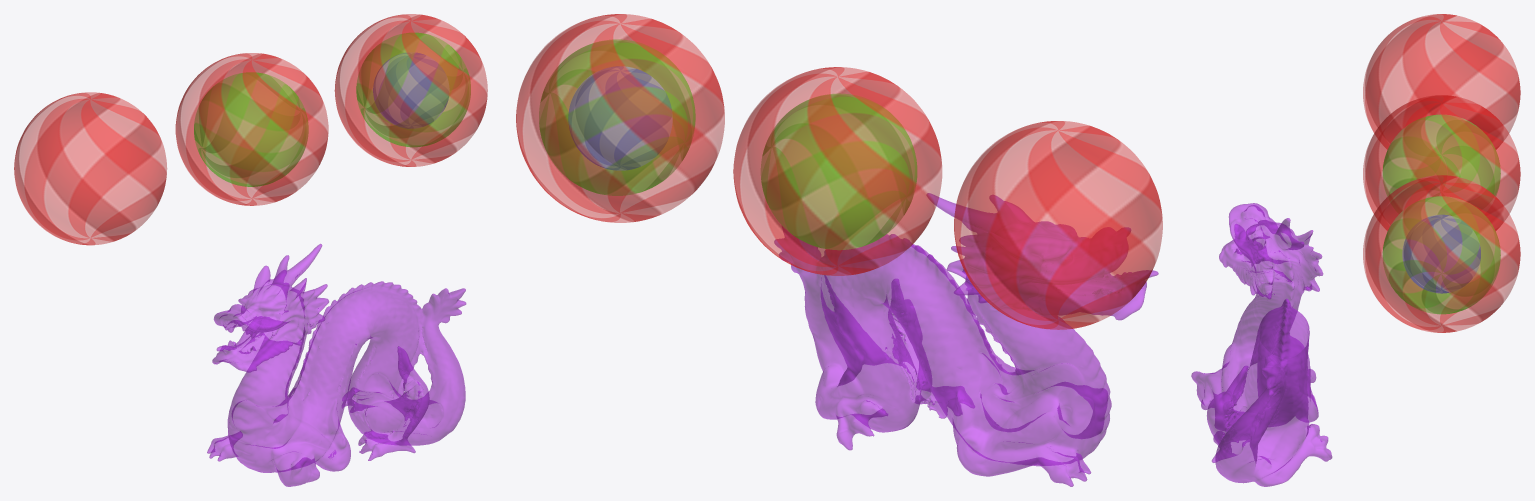
The model's file is oit_testing.glb.
The picture shows the model from 3 angles, left to right: view 1: azimuth 30°, elevation 25°; view 2: azimuth 150°, elevation 25°; view 3: azimuth 270°, elevation 25°; orthographic projection. The views are drawn at different scales.
Parts seen in each view (by area): view 1: model, Sphere 2, Sphere 3, Sphere 1, Sphere2-Layer2, Sphere3-Layer2, Sphere 4; view 2: model, Sphere 2, Sphere 3, Sphere 1, Sphere2-Layer2, Sphere3-Layer2, Sphere 4; view 3: model, Sphere 3, Sphere 1, Sphere 2, Sphere3-Layer2, Sphere2-Layer2, Sphere 4.
Boxes of the visible parts, box(x1,y1,x2,y2) form: model: box(207, 244, 466, 486); Sphere 2: box(175, 53, 328, 205); Sphere 3: box(334, 14, 487, 166); Sphere 1: box(14, 92, 166, 245); Sphere2-Layer2: box(194, 72, 308, 186); Sphere3-Layer2: box(356, 32, 470, 147); Sphere 4: box(373, 53, 448, 127); model: box(774, 193, 1158, 486); Sphere 2: box(733, 67, 941, 275); Sphere 3: box(516, 14, 724, 222); Sphere 1: box(954, 121, 1162, 329); Sphere2-Layer2: box(761, 93, 917, 249); Sphere3-Layer2: box(539, 39, 695, 195); Sphere 4: box(568, 66, 671, 169); model: box(1191, 203, 1332, 486); Sphere 3: box(1363, 175, 1520, 332); Sphere 1: box(1363, 14, 1520, 149); Sphere 2: box(1363, 95, 1520, 230); Sphere3-Layer2: box(1382, 196, 1500, 314); Sphere2-Layer2: box(1382, 114, 1500, 208); Sphere 4: box(1402, 215, 1480, 293).
Size of the model in its own units: 6.84 by 4.71 by 4.17.
4 materials, 3 textured.
